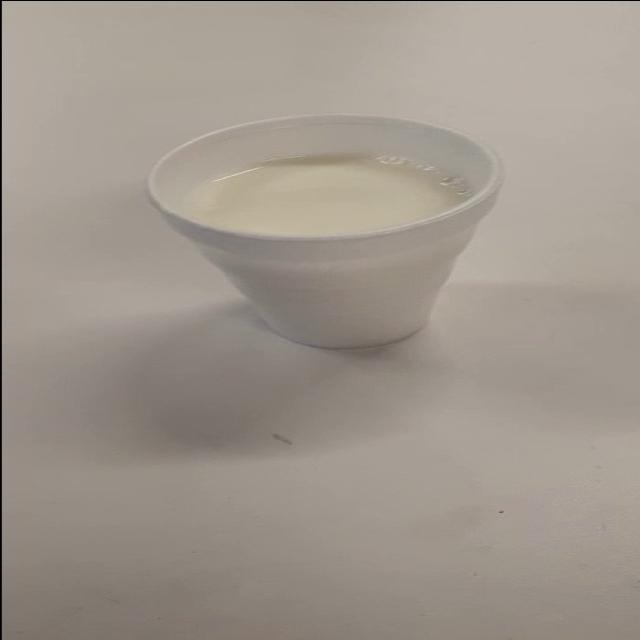Milk: (130, 92, 566, 377)
